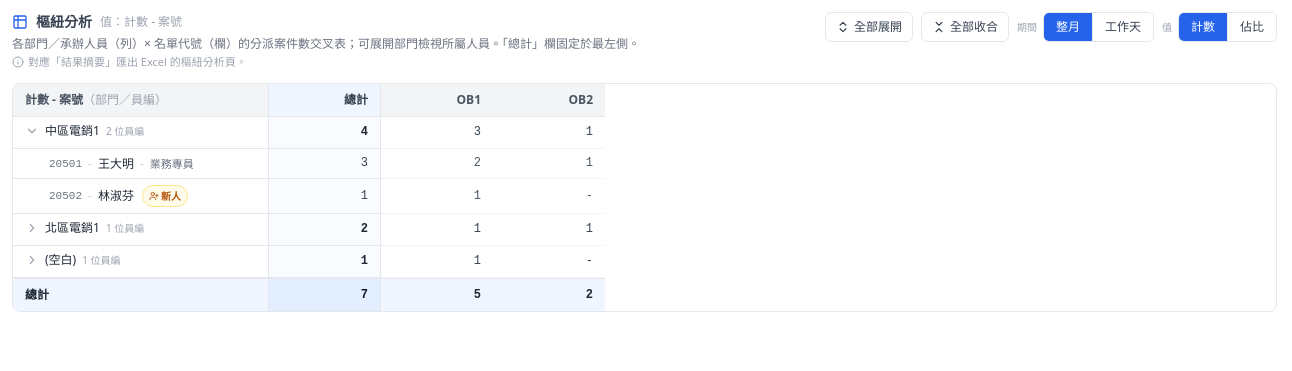
Test: SnapshotPivotView — F116 v1.1（US-182） › AC-10 / BR-12~16：整月／工作天維度切換 › TS-F116-040：由「整月-佔比」切至「工作天」→ 值自動回落為計數（不殘留 %），佔比按鈕 disabled
Click the button with test id "pivot-mode-pct" at (1252,27), box x1=1227 y1=13 x2=1276 y2=41
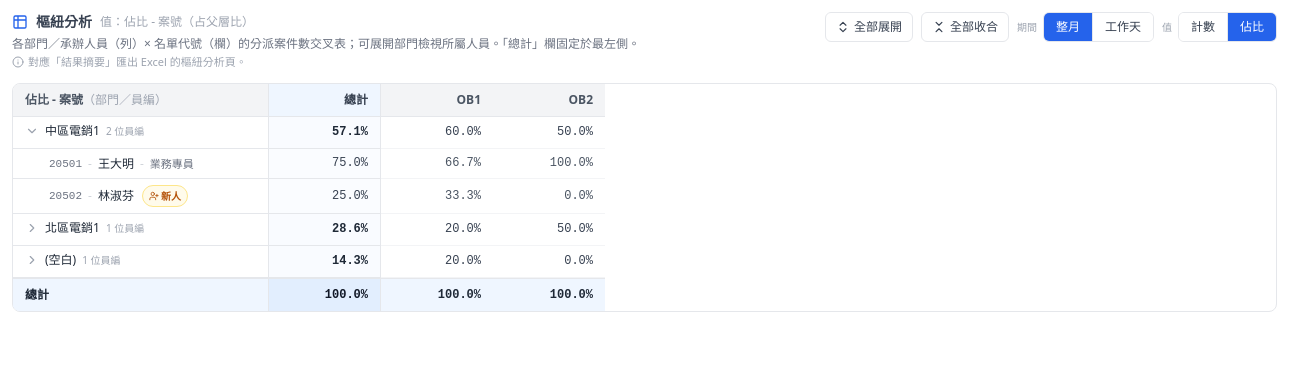
Result: the text "57.1%" is shown at x1=269 y1=116 x2=381 y2=148
Click the button with test id "pivot-dim-workday" at (1122,27), box x1=1092 y1=13 x2=1153 y2=41
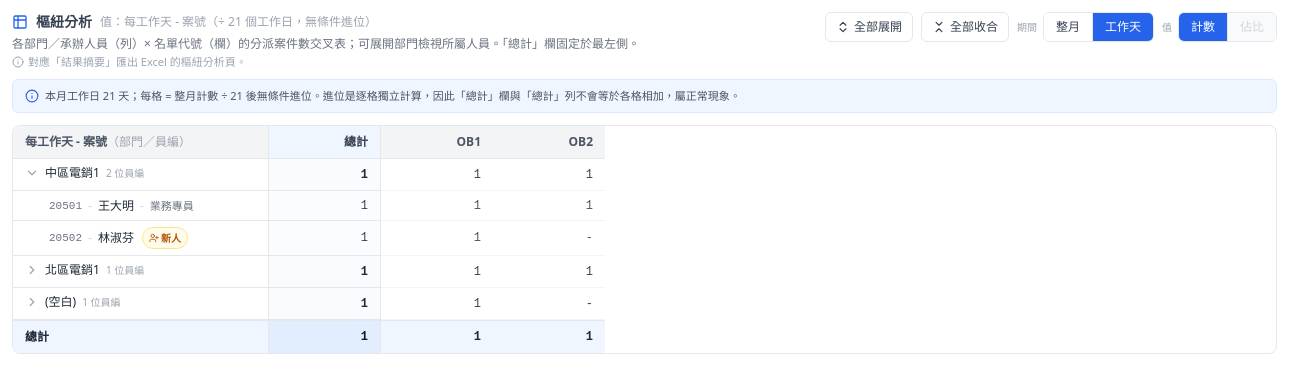
Result: the button with test id "pivot-mode-pct" is disabled at x1=1227 y1=13 x2=1276 y2=41
Result: the text "%" is gone
